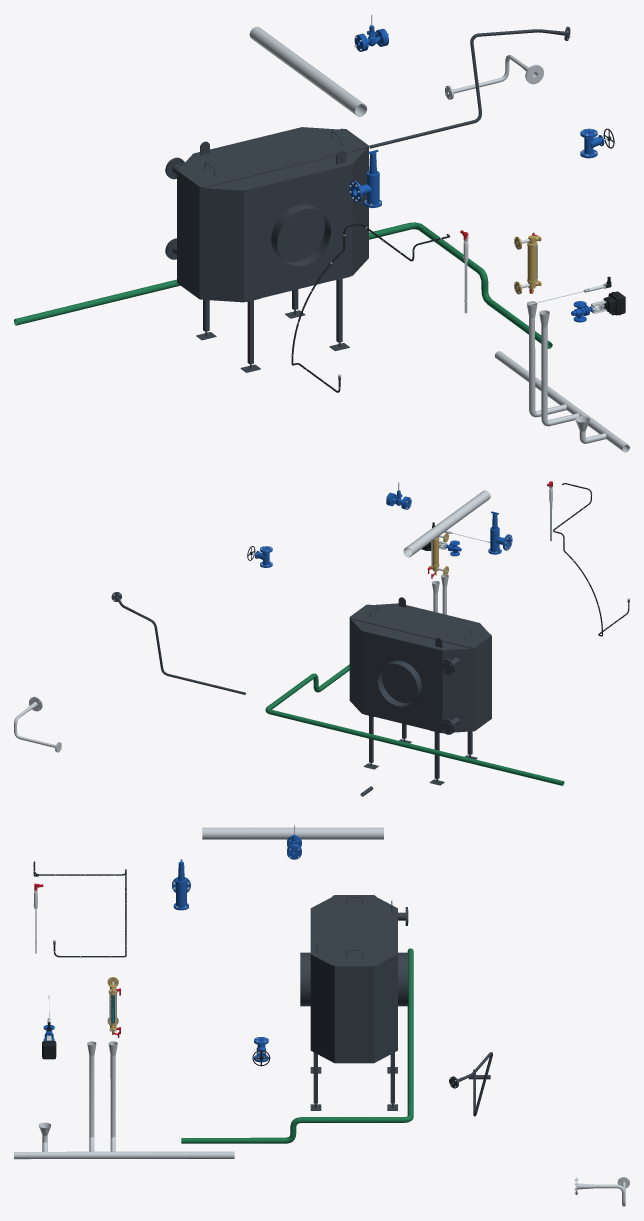
3 renders of one model, top to bottom at view 1: azimuth 30°, elevation 25°; view 2: azimuth 150°, elevation 25°; view 3: azimuth 270°, elevation 25°, orthographic. The views are drawn at different scales.
Parts seen in each view (by area): view 1: economizer CAD solid 0, economizer CAD solid 3, economizer CAD solid 1, local_open_drains / steel, suction_common / green, steam_delivery / steel, tds_without_fv / dark, safety_1 / blue, bcv925 / bcv925_0.npz, fv_to_trap_gap / steel, sight_glasses_2 / sight_glasses_2_0.npz, wiring_lp200 / black; view 2: economizer CAD solid 0, economizer CAD solid 3, economizer CAD solid 2, suction_common / green, steam_delivery / steel, tds_without_fv / dark, safety_1 / blue, fv_to_trap_gap / steel, wiring_lp200 / black; view 3: economizer CAD solid 3, local_open_drains / steel, suction_common / green, economizer CAD solid 0, steam_delivery / steel, safety_1 / blue, tds_without_fv / dark, gpz_bypass / steel, wiring_lp200 / black, sight_glasses_2 / sight_glasses_2_0.npz.
Boxes of the visible parts, x1,y1,x2,y2 form: economizer CAD solid 0: (196,128,352,372); economizer CAD solid 3: (177,127,368,299); economizer CAD solid 1: (200,188,243,302); local_open_drains / steel: (494,301,629,452); suction_common / green: (14,222,552,348); steam_delivery / steel: (249,26,338,96); tds_without_fv / dark: (369,26,570,148); safety_1 / blue: (349,149,381,207); bcv925 / bcv925_0.npz: (571,291,625,322); fv_to_trap_gap / steel: (445,55,543,99); sight_glasses_2 / sight_glasses_2_0.npz: (514,232,541,294); wiring_lp200 / black: (291,223,449,392); economizer CAD solid 0: (361,631,477,785); economizer CAD solid 3: (349,597,491,730); economizer CAD solid 2: (440,648,474,734); suction_common / green: (265,664,564,785); steam_delivery / steel: (403,504,471,557); tds_without_fv / dark: (111,592,245,694); safety_1 / blue: (488,511,512,554); fv_to_trap_gap / steel: (14,696,61,752); wiring_lp200 / black: (553,483,629,636); economizer CAD solid 3: (310,895,397,1063); local_open_drains / steel: (14,1041,234,1159); suction_common / green: (181,948,413,1143); economizer CAD solid 0: (300,952,408,1110); steam_delivery / steel: (246,827,383,839); safety_1 / blue: (172,859,190,910); tds_without_fv / dark: (449,1052,492,1116); gpz_bypass / steel: (202,827,245,839); wiring_lp200 / black: (33,861,126,957); sight_glasses_2 / sight_glasses_2_0.npz: (107,977,120,1037).
Bounding box in the file's own units: 5.83 × 3.05 × 5.78.
